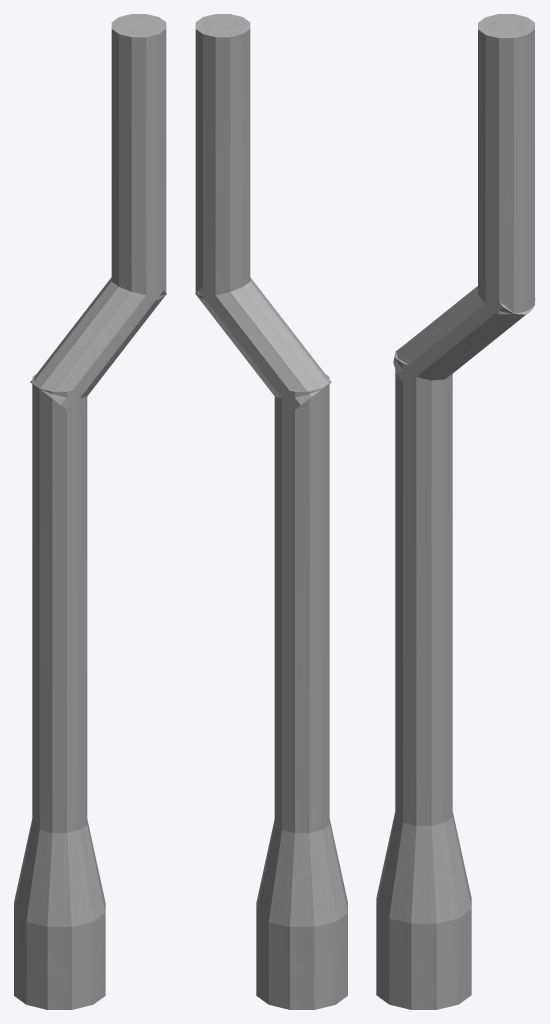
The model's file is british_signal_pole.obj.
The picture shows the model from 3 angles, left to right: view 1: azimuth 30°, elevation 25°; view 2: azimuth 150°, elevation 25°; view 3: azimuth 330°, elevation 25°; orthographic projection. The views are drawn at different scales.
Parts seen in each view (by area): view 1: cylinder, cone; view 2: cylinder, cone; view 3: cylinder, cone.
Boxes of the visible parts, x1,y1,x2,y2 form: cylinder: (14,14,166,1009); cone: (14,819,105,926); cylinder: (195,14,347,1009); cone: (256,819,347,926); cylinder: (376,14,535,1009); cone: (376,812,471,923).
Size of the model in its own units: 0.5625 by 3.56 by 0.3125.
Materials: 1 (1 with a texture image).
